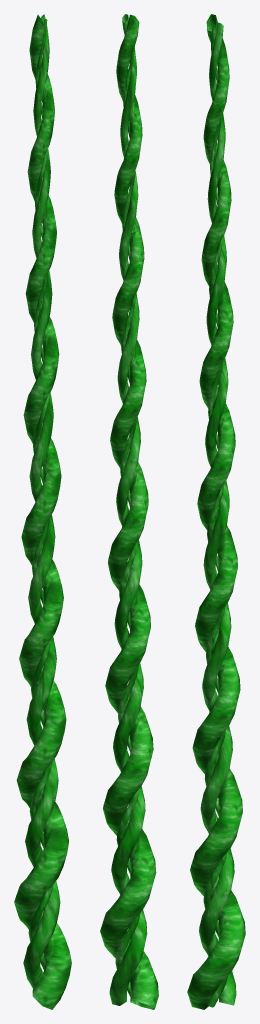
File: body_straight.FBX
3 renders of one model, left to right at view 1: azimuth 90°, elevation 25°; view 2: azimuth 150°, elevation 25°; view 3: azimuth 330°, elevation 25°, orthographic.
Visible parts, largest first — view 1: Spring026, Spring027, Spring025; view 2: Spring026, Spring027, Spring025; view 3: Spring026, Spring027, Spring025.
Part boxes in pixels (bbox=[...]): Spring026: bbox=[14, 15, 71, 1009]; Spring027: bbox=[23, 14, 60, 988]; Spring025: bbox=[28, 19, 53, 969]; Spring026: bbox=[100, 14, 158, 1009]; Spring027: bbox=[109, 14, 147, 1005]; Spring025: bbox=[115, 46, 140, 996]; Spring026: bbox=[187, 14, 245, 1009]; Spring027: bbox=[199, 22, 236, 1005]; Spring025: bbox=[203, 24, 228, 1007].
Bounding box in the file's own units: 82.59 × 1521 × 80.77.
3 materials, 3 textured.
